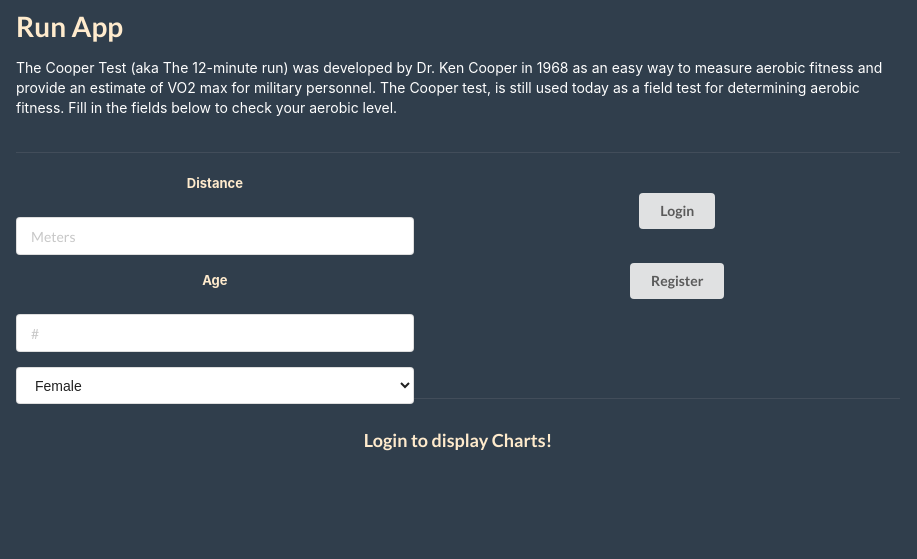
Cooper Client calculates successfully › calculates cooper performance
In the field with id "distance": (215, 236) [16,217,414,255], type "1000"
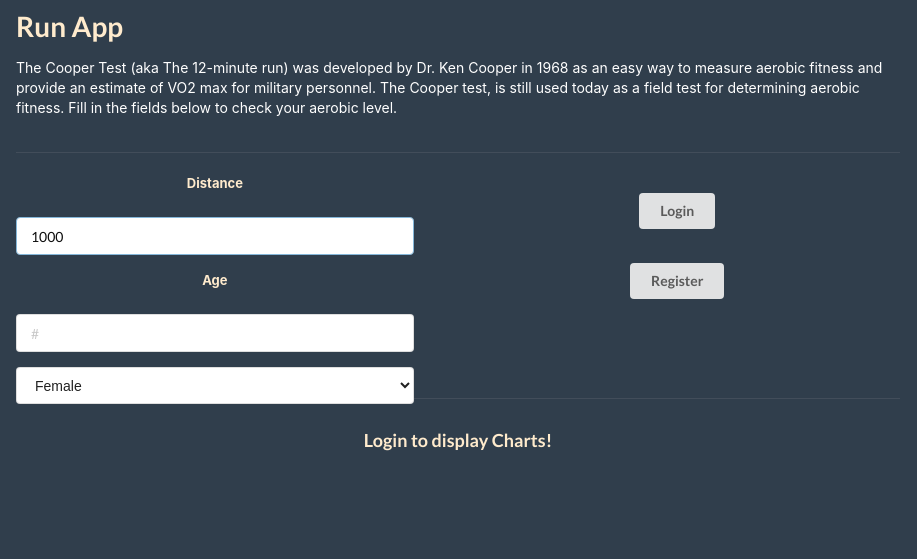
Select "Female" in the dropdown with id "gender": (215, 386) [16,367,414,404]
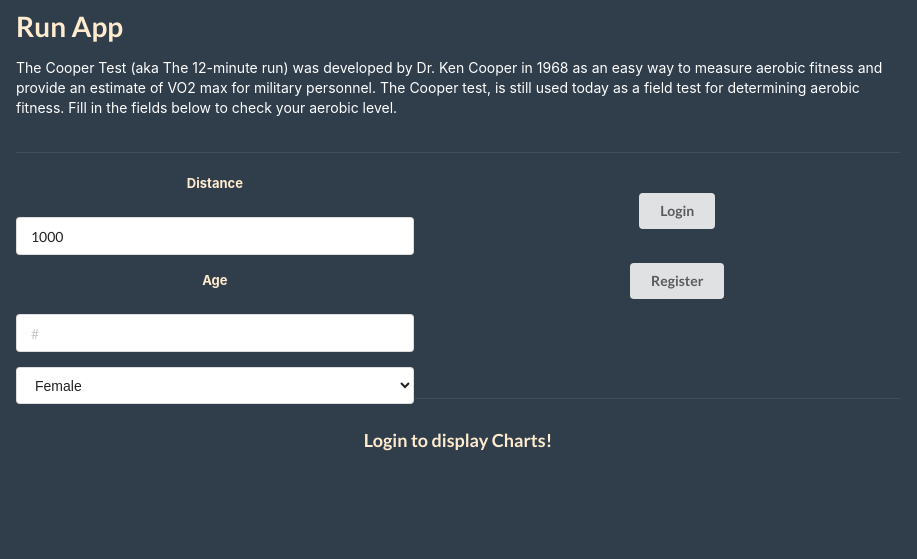
In the field with id "age": (215, 333) [16,314,414,352], type "23"
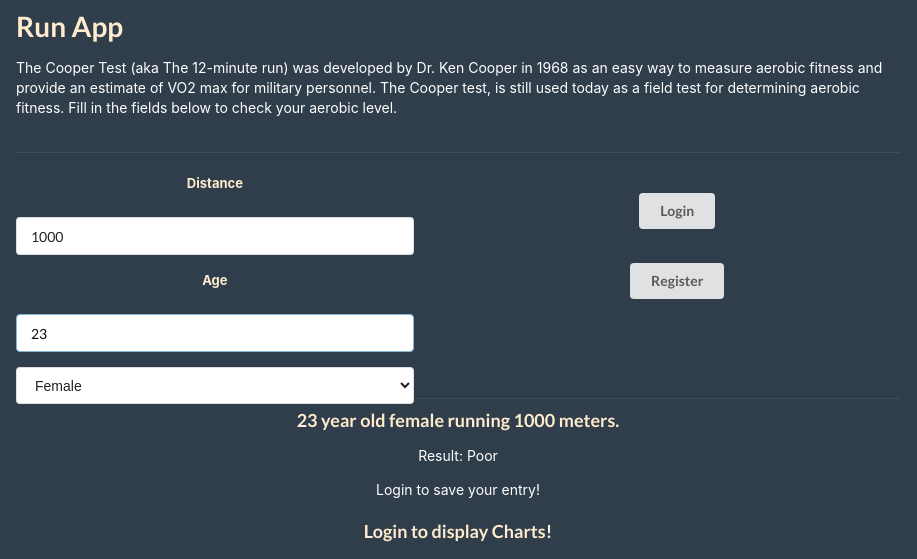
expect the heading with id "cooper-message" reads "23 year old female running 1000 meters.": met, box [297,409,620,431]
expect the text with id "cooper-result" reads "Result: Poor": met, box [418,447,498,464]
